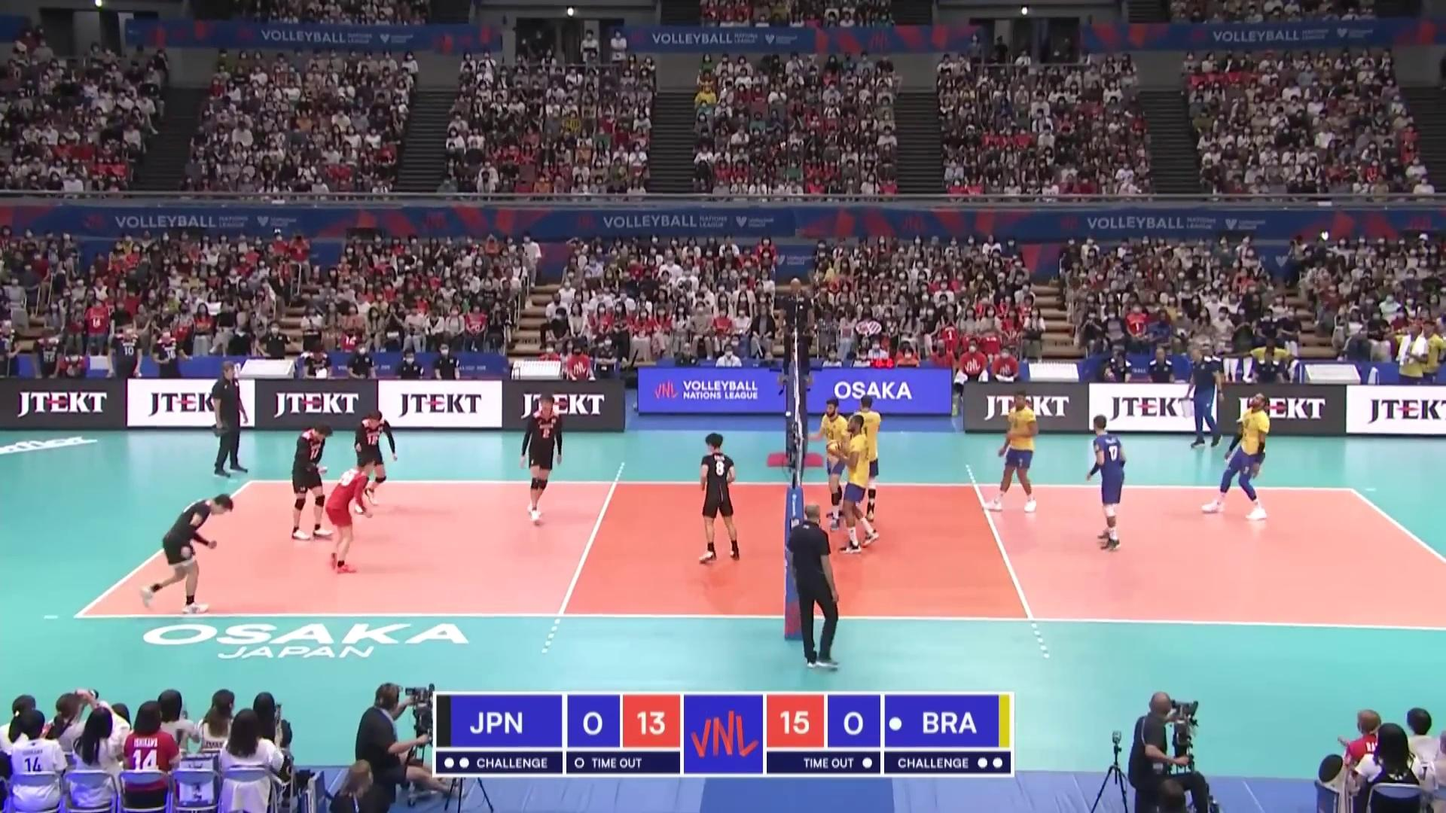player: (137, 493, 235, 613), (1204, 393, 1273, 520), (1085, 414, 1130, 553), (696, 432, 742, 562), (838, 415, 880, 556), (986, 393, 1035, 513), (325, 453, 374, 572), (290, 422, 335, 540), (524, 396, 563, 525), (355, 411, 399, 514), (815, 400, 848, 529), (851, 396, 883, 528)
refree: (789, 509, 840, 667), (776, 278, 813, 386)
